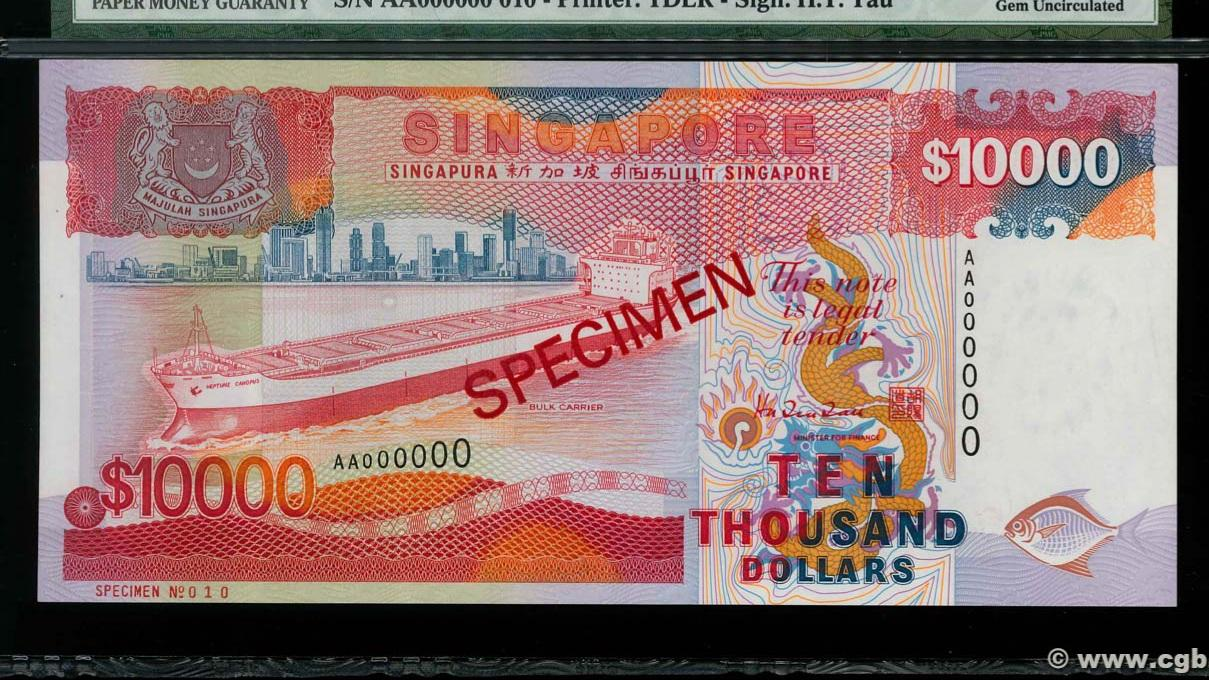10000SingaporeDollar: (43, 64, 1174, 603)
